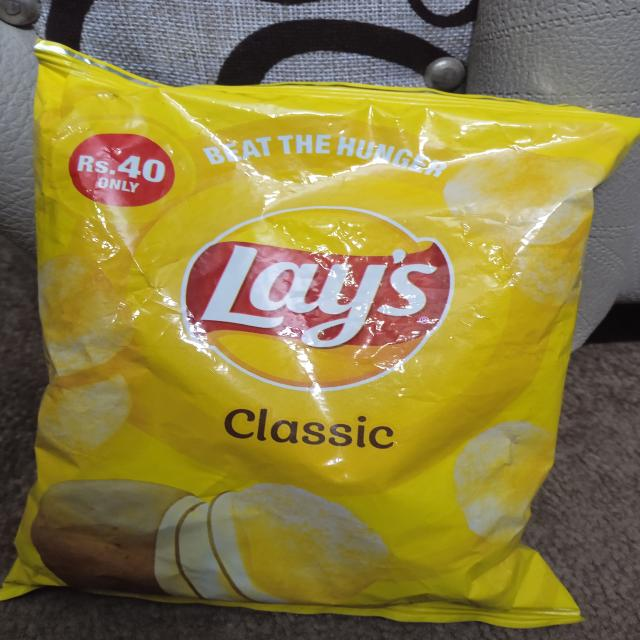Plastic: (4, 35, 633, 626)
